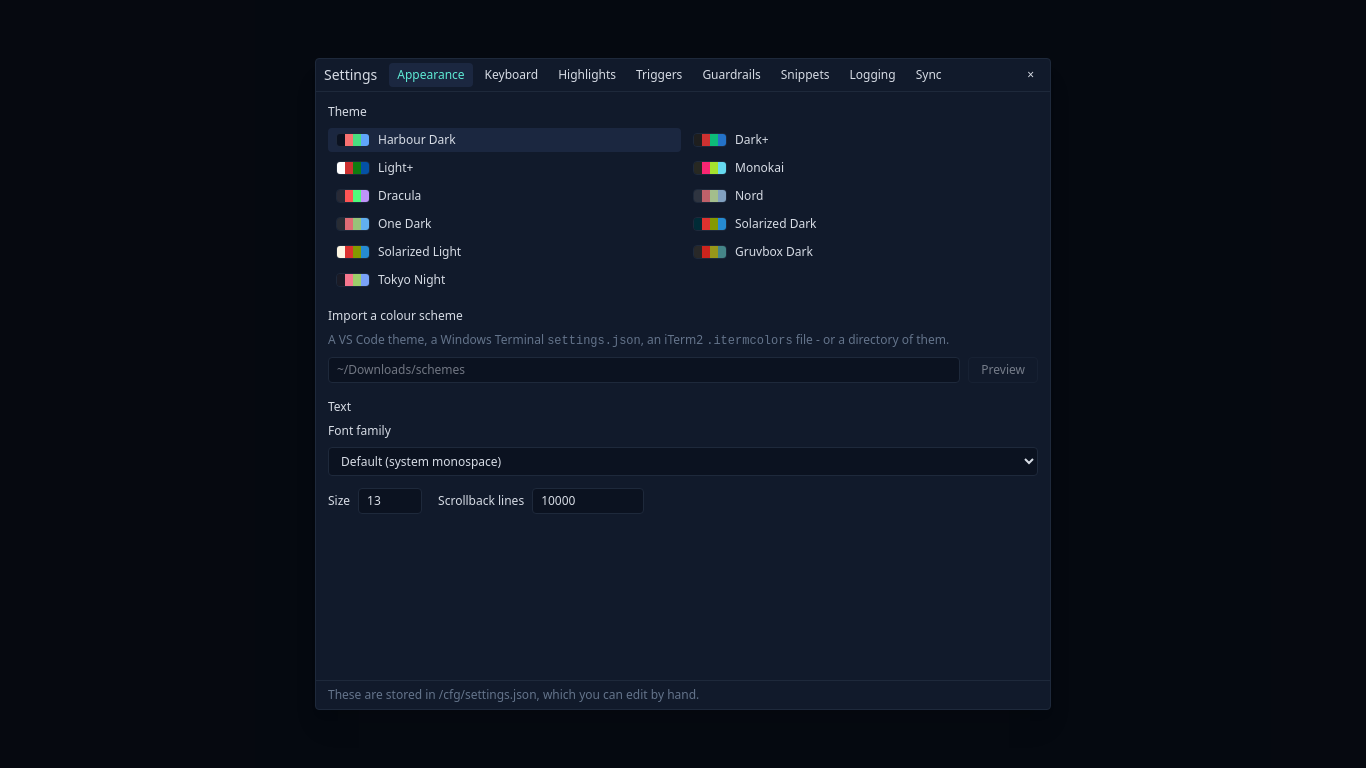
Test: appearance › reports a path that is not a colour scheme
Step 1. Type "/tmp/nope" into the field named "Colour scheme path" → coordinates (644, 370), box [328,357,960,383]
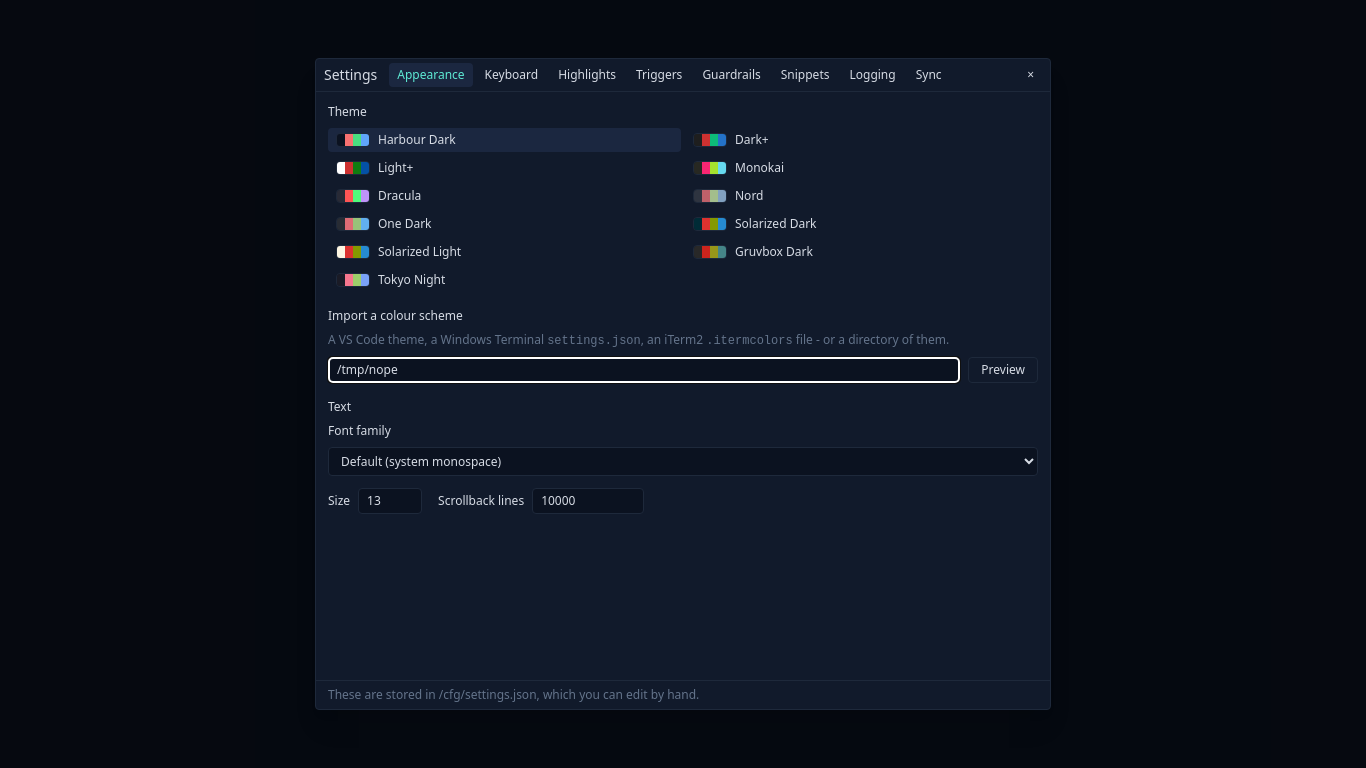
Step 2. Click the button "Preview" → coordinates (1003, 370), box [968,357,1038,383]
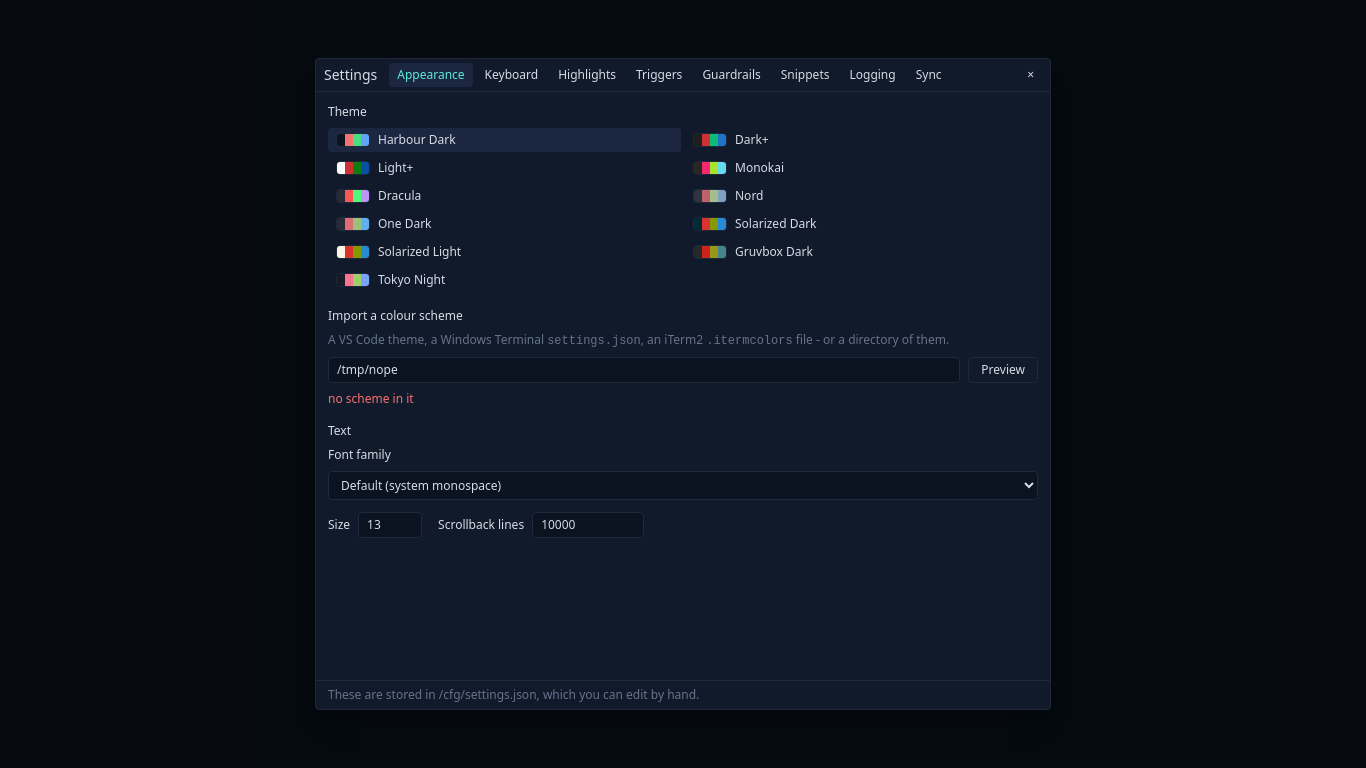
Expected: the message reads "no scheme in it", [328,390,414,407]
